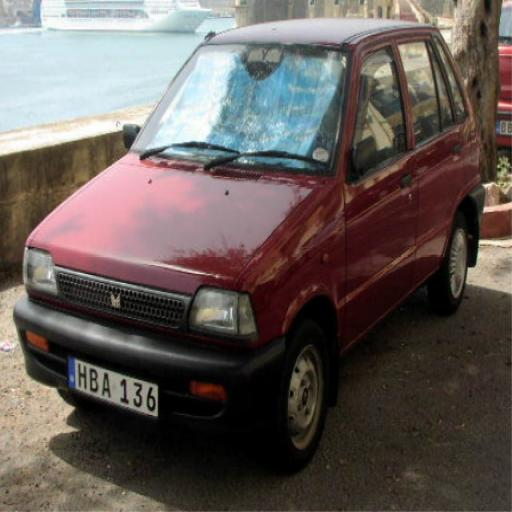License: (65, 351, 167, 417)
